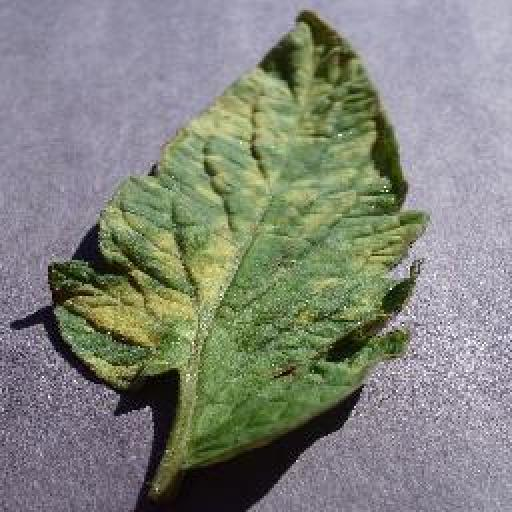disease_tomato: (52, 0, 430, 472)
